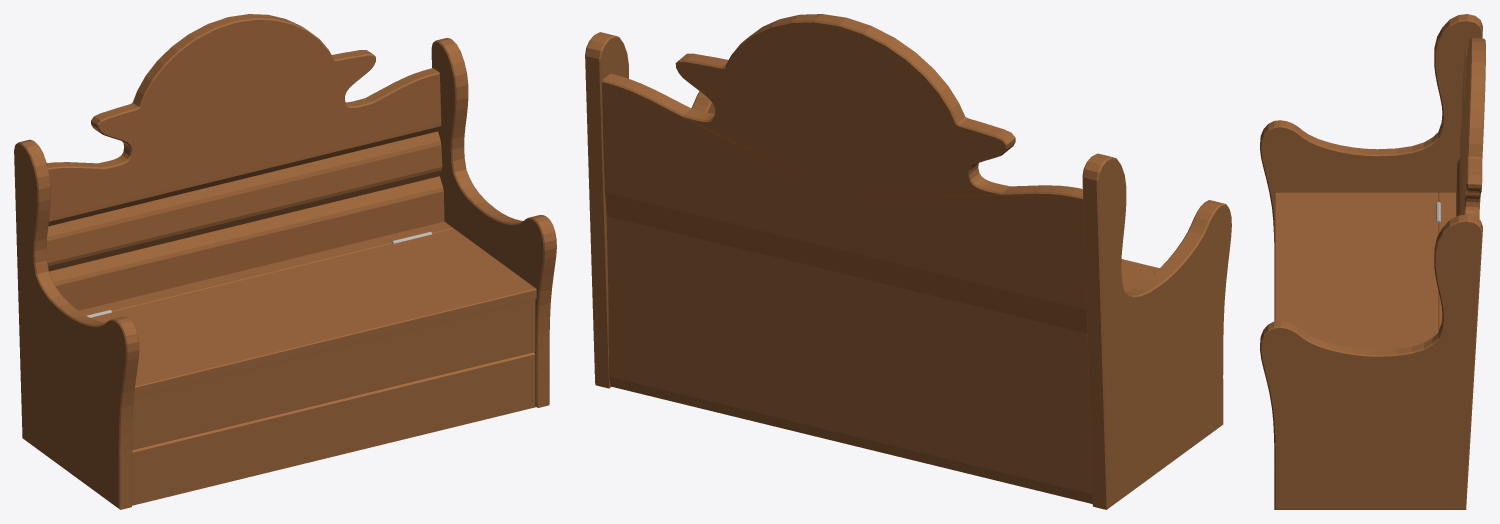
Rendered from wooden-pew.glb.
The picture shows the model from 3 angles, left to right: view 1: azimuth 30°, elevation 25°; view 2: azimuth 150°, elevation 25°; view 3: azimuth 270°, elevation 25°; orthographic projection. The views are drawn at different scales.
Visible parts, largest first — view 1: Node; view 2: Node; view 3: Node.
Part boxes in pixels (x1,y1,x2,y2): Node: (14,14,556,509); Node: (585,14,1231,509); Node: (1260,14,1485,509).
Bounding box in the file's own units: 59.8 × 48.11 × 27.59.
